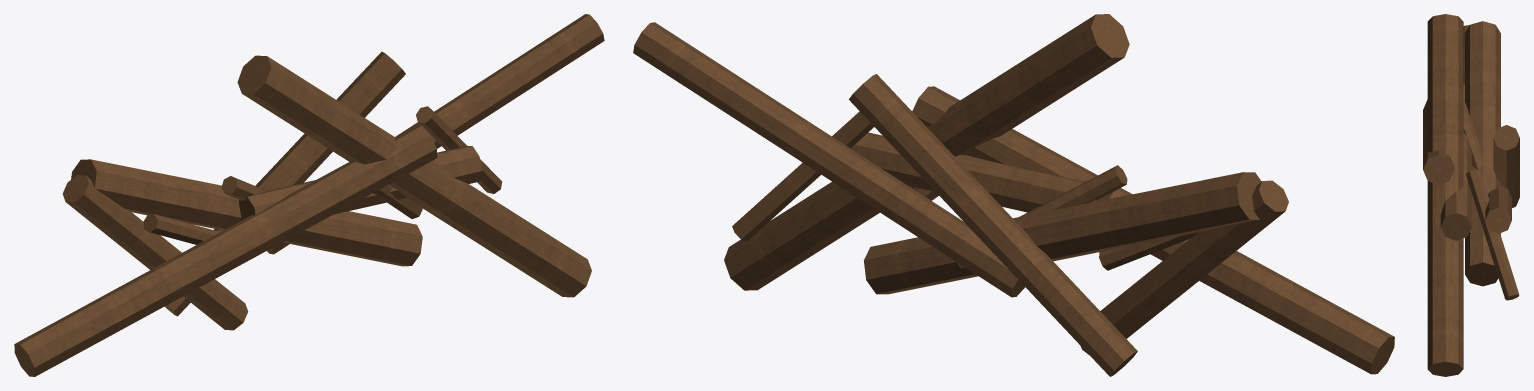
File: en-006_driftwood_cluster__large.obj
3 views of the same model, side by side, from view 1: azimuth 30°, elevation 25°; view 2: azimuth 150°, elevation 25°; view 3: azimuth 270°, elevation 25° (orthographic). The views are drawn at different scales.
Visible parts, largest first — view 1: en-006_driftwood_cluster__large; view 2: en-006_driftwood_cluster__large; view 3: en-006_driftwood_cluster__large.
Boxes of the visible parts, left/top/right/bottom form: en-006_driftwood_cluster__large: left=14, top=14, right=604, bottom=376; en-006_driftwood_cluster__large: left=633, top=14, right=1394, bottom=376; en-006_driftwood_cluster__large: left=1423, top=14, right=1519, bottom=376.
Bounding box in the file's own units: 1.92 × 0.9291 × 0.3281.
Materials: 1 (1 with a texture image).
